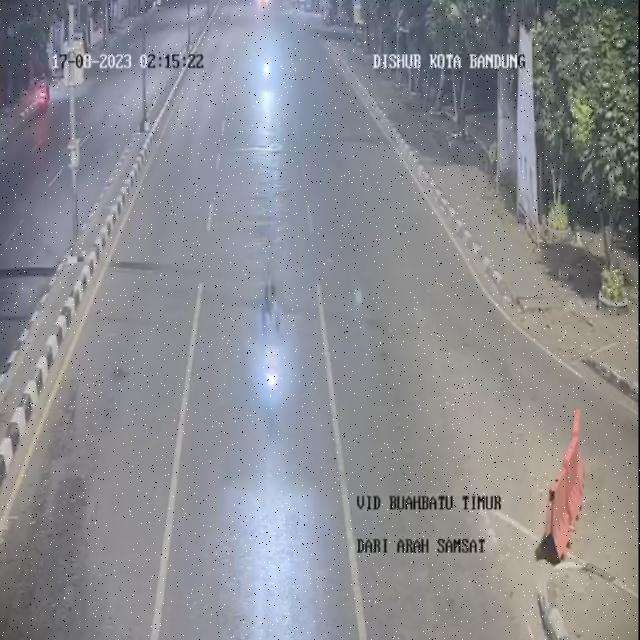motorcycle: (248, 279, 289, 421)
